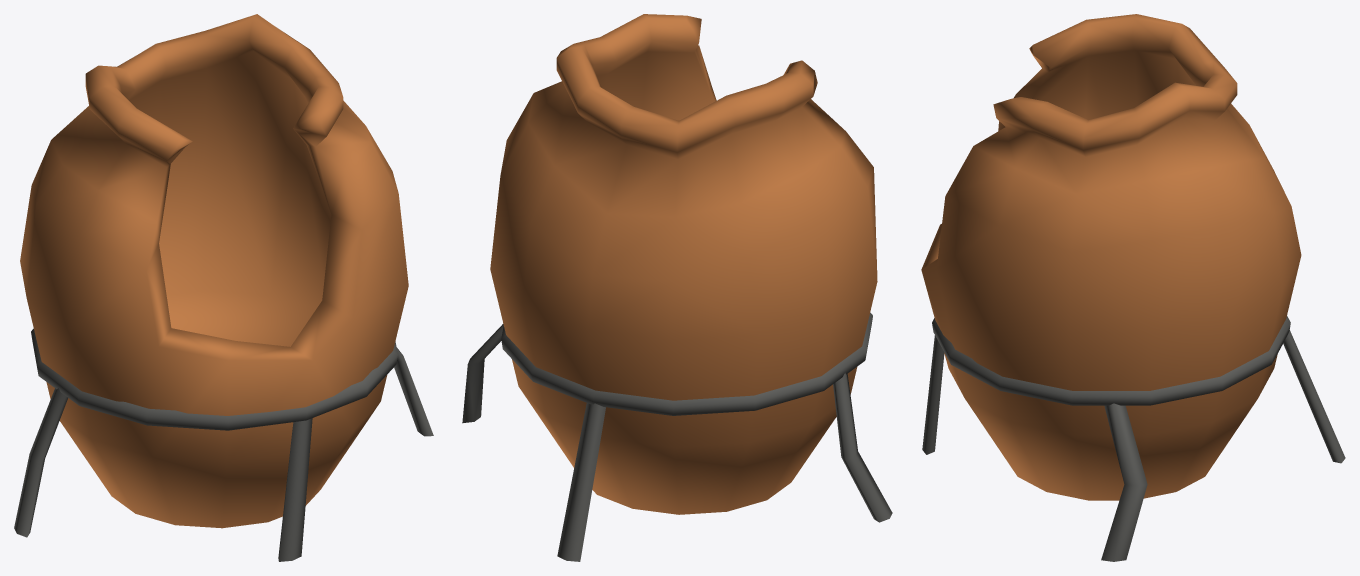
Rendered from rpgpp_av_food_container_02a.gltf.
3 renders of one model, left to right at view 1: azimuth 30°, elevation 25°; view 2: azimuth 150°, elevation 25°; view 3: azimuth 270°, elevation 25°, orthographic. The views are drawn at different scales.
Visible parts, largest first — view 1: rpgpp_av_food_container_02a; view 2: rpgpp_av_food_container_02a; view 3: rpgpp_av_food_container_02a.
Boxes of the visible parts, x1,y1,x2,y2 form: rpgpp_av_food_container_02a: (14,14,433,561); rpgpp_av_food_container_02a: (462,14,892,561); rpgpp_av_food_container_02a: (921,14,1345,561).
Size of the model in its own units: 0.013 by 0.0126 by 0.0118.
Materials: 1 (1 with a texture image).
